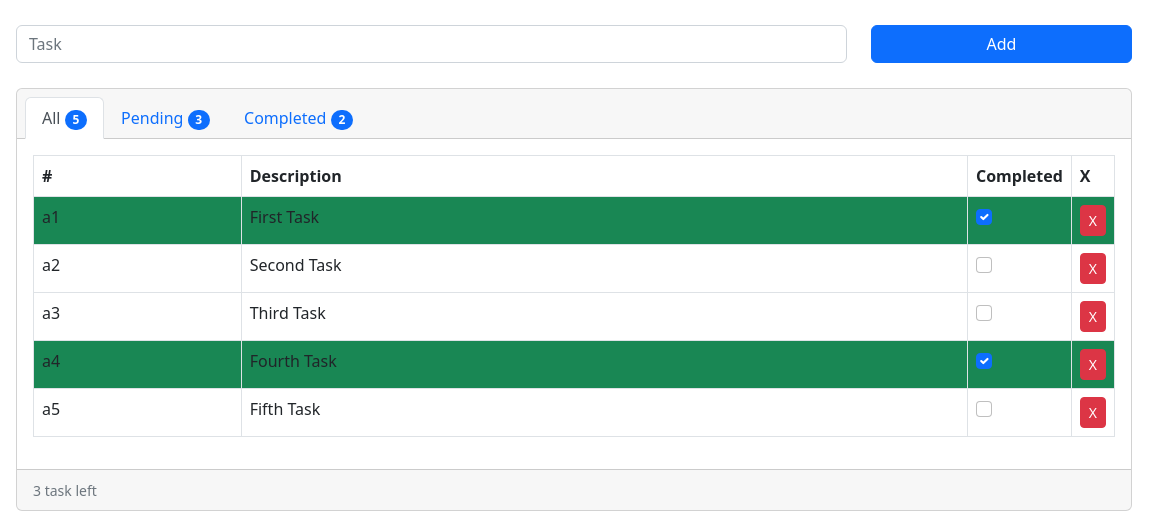
Test: Todo Component › API Failed: Update Task
The width and height of the screenshot is (1149, 528).
Note: simulate: click on check
Click the checkbox in the row of "a3".
click(984, 313)  # box [976,305,992,321]
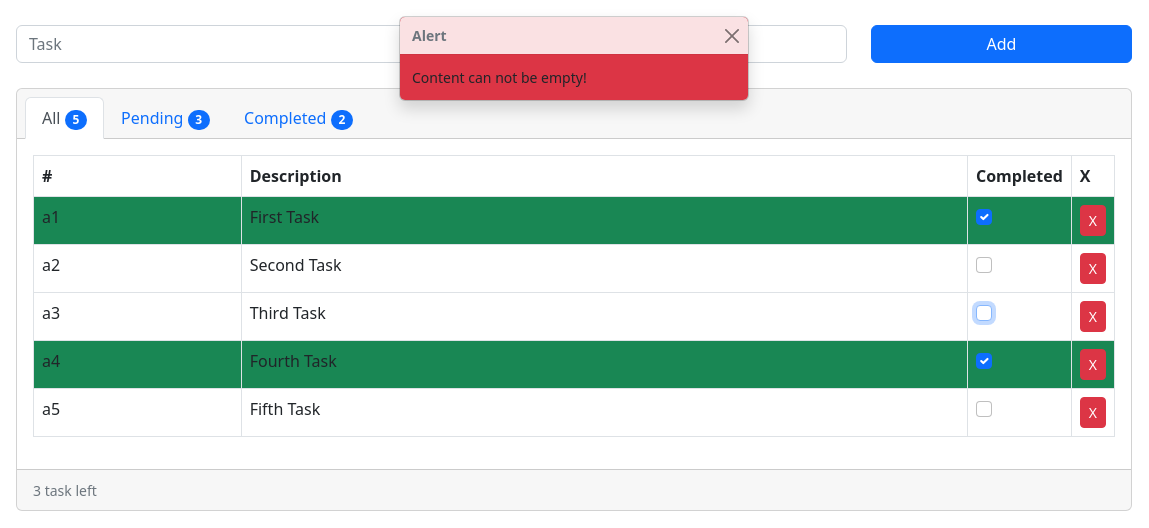
Result: the message "Alert Content can not be empty!" is shown at [399,16,749,101]
Result: the text with test id "toaster-body" reads "Content can not be empty!" at [412,68,587,87]
